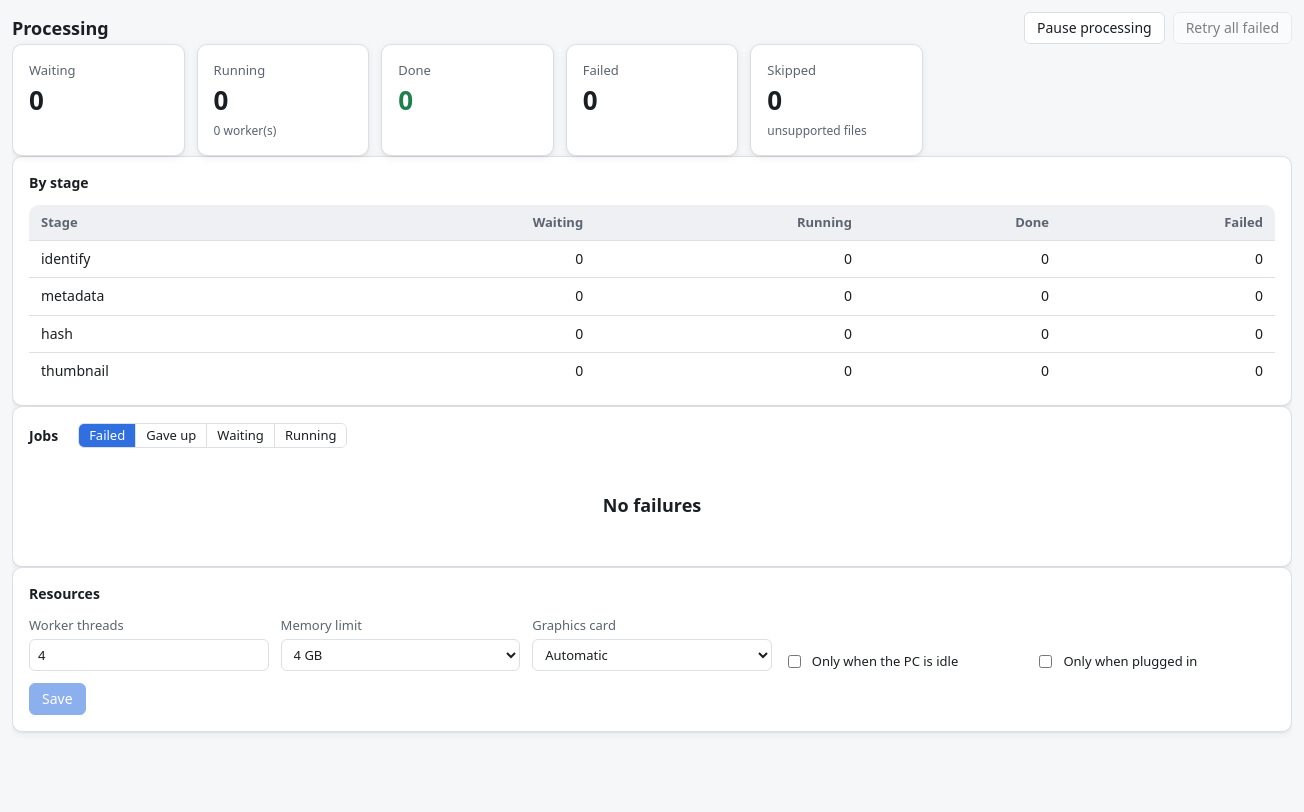
Test: Processing › saves resource limits
Replace the text in the number field labelled "Worker threads" with "2". click: coordinates (149, 655)
box: [29,639,269,671]
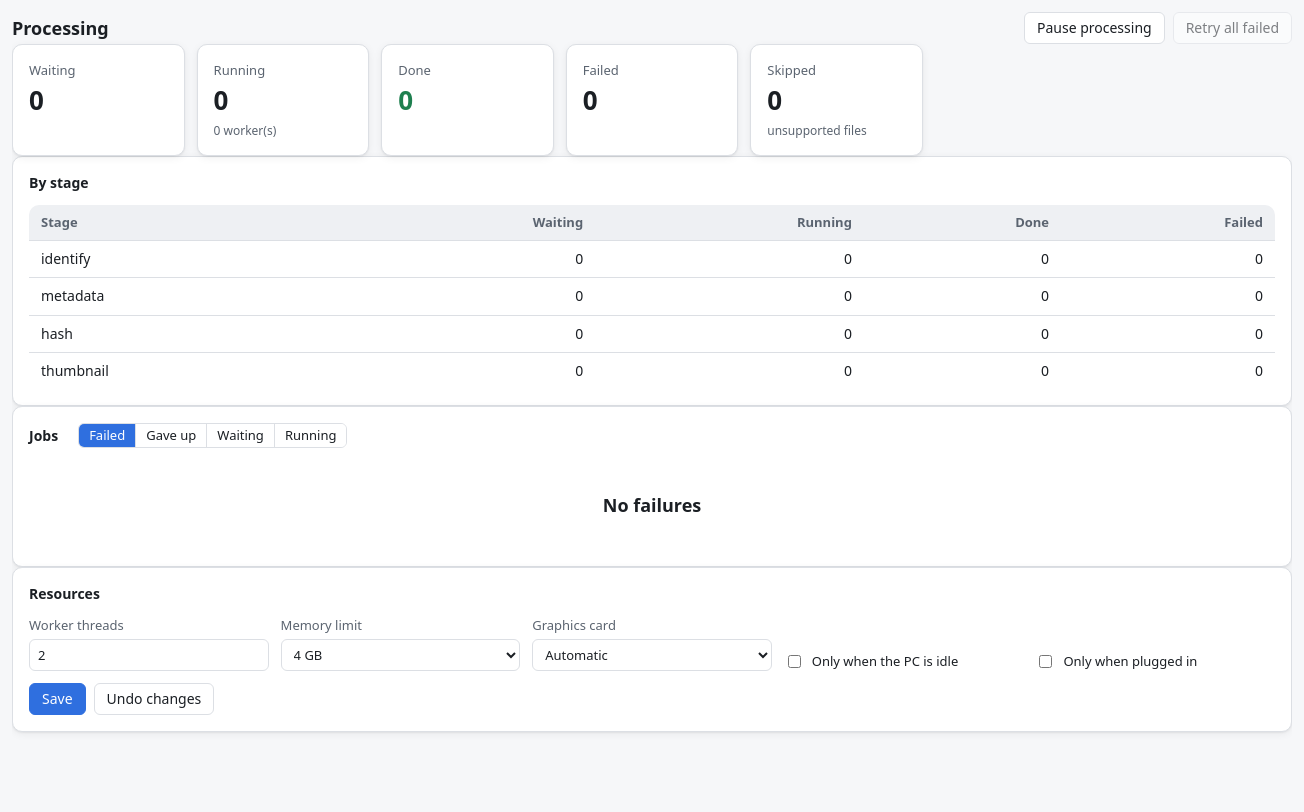
Click the checkbox labelled "Only when plugged in". click: coordinates (1046, 662)
box: [1039,655,1052,668]
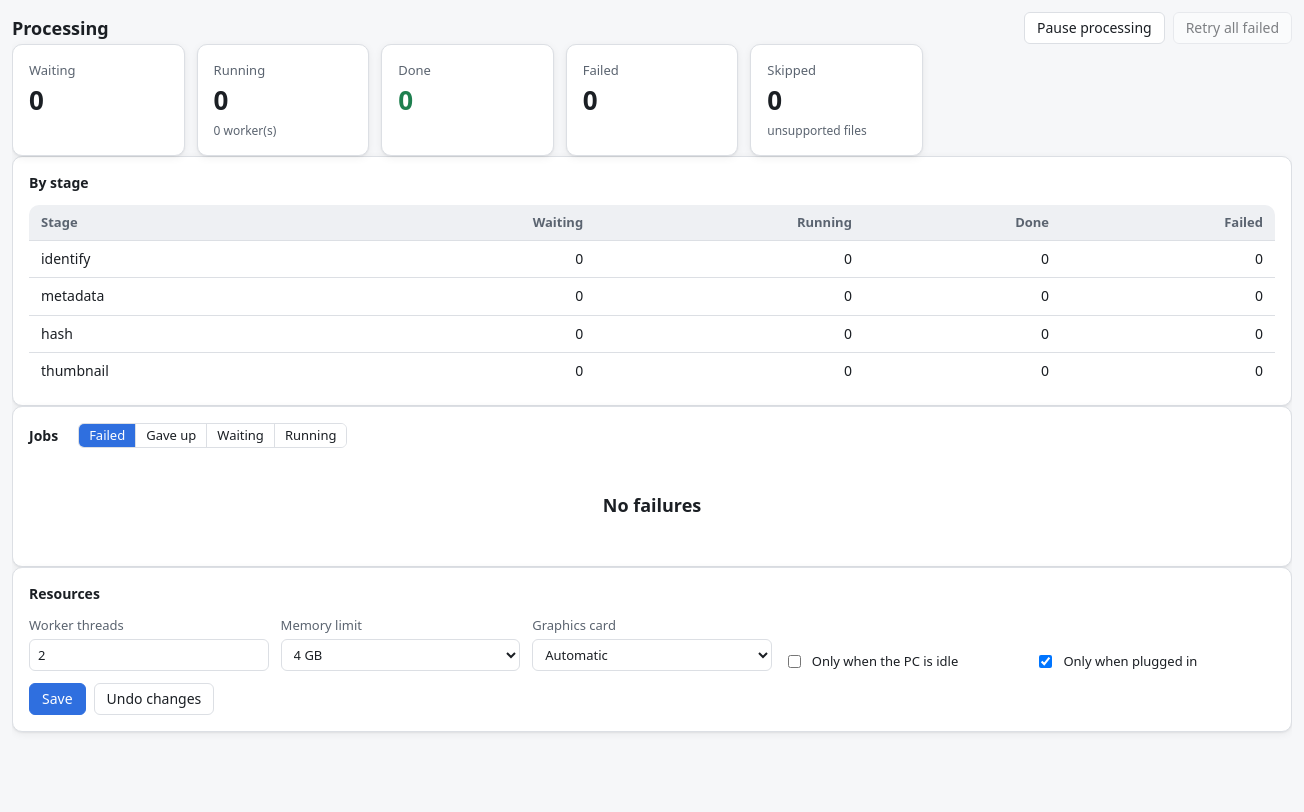
Click the button "Save". click: coordinates (57, 699)
box: [29,683,86,715]
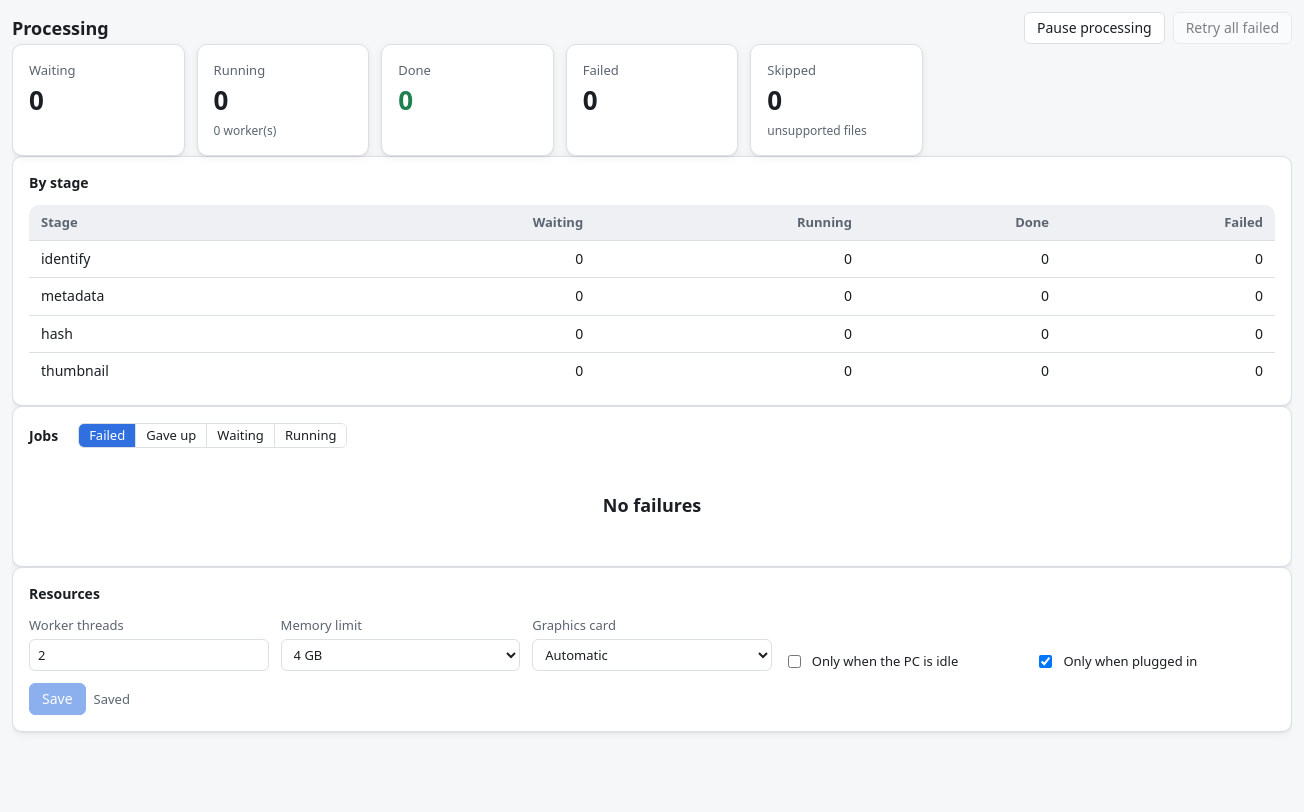
Check: the text "Saved" is shown, box [94,690,130,709]
